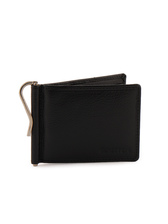other: (15, 75, 146, 168)
